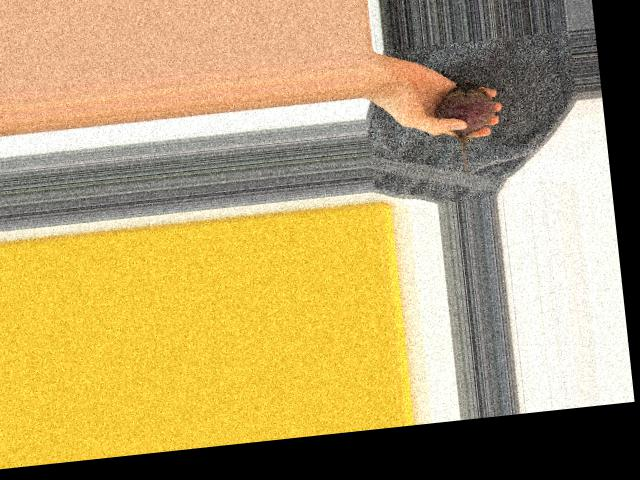beet: (434, 79, 502, 179)
